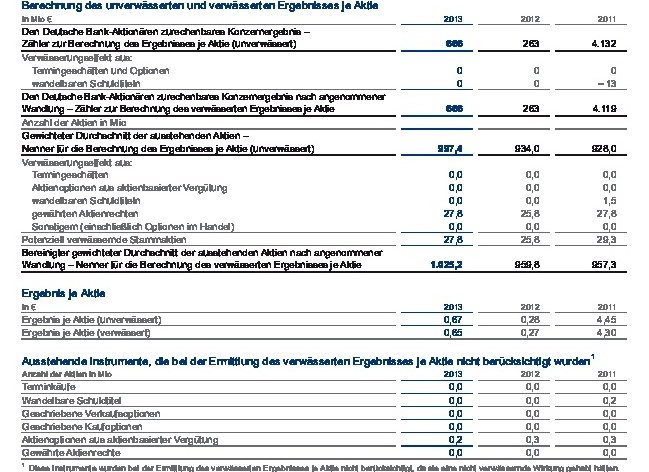table: (0, 0, 649, 472)
